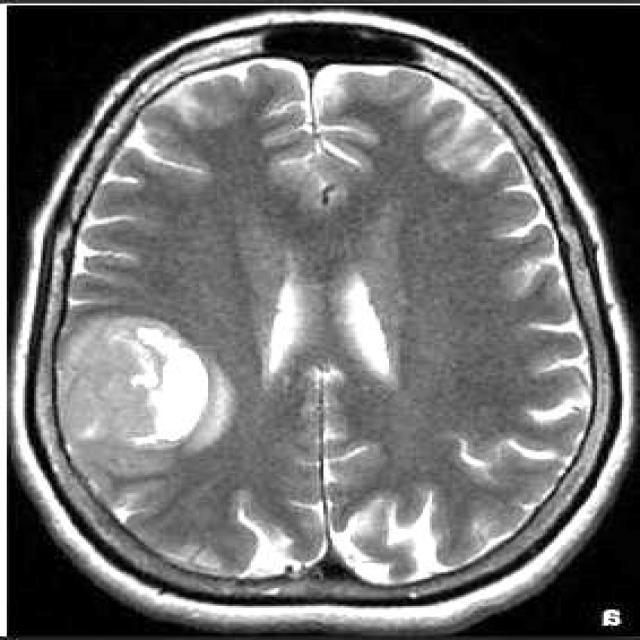Tumor: (62, 310, 238, 482)
